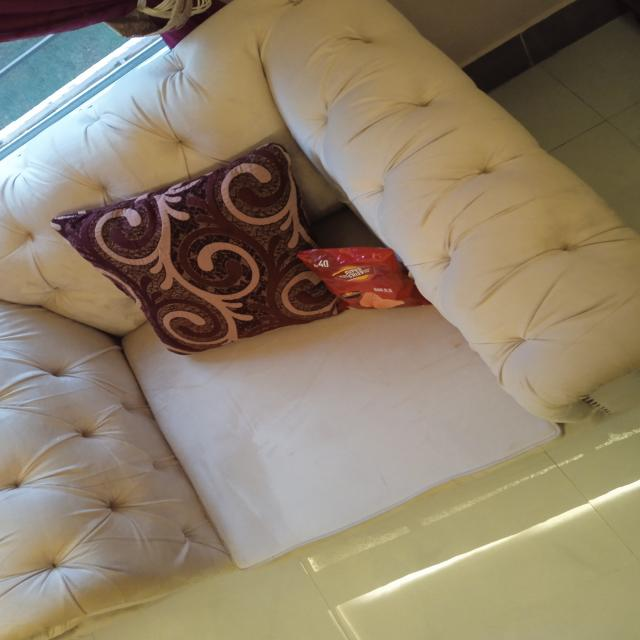Plastic: (293, 238, 429, 317)
